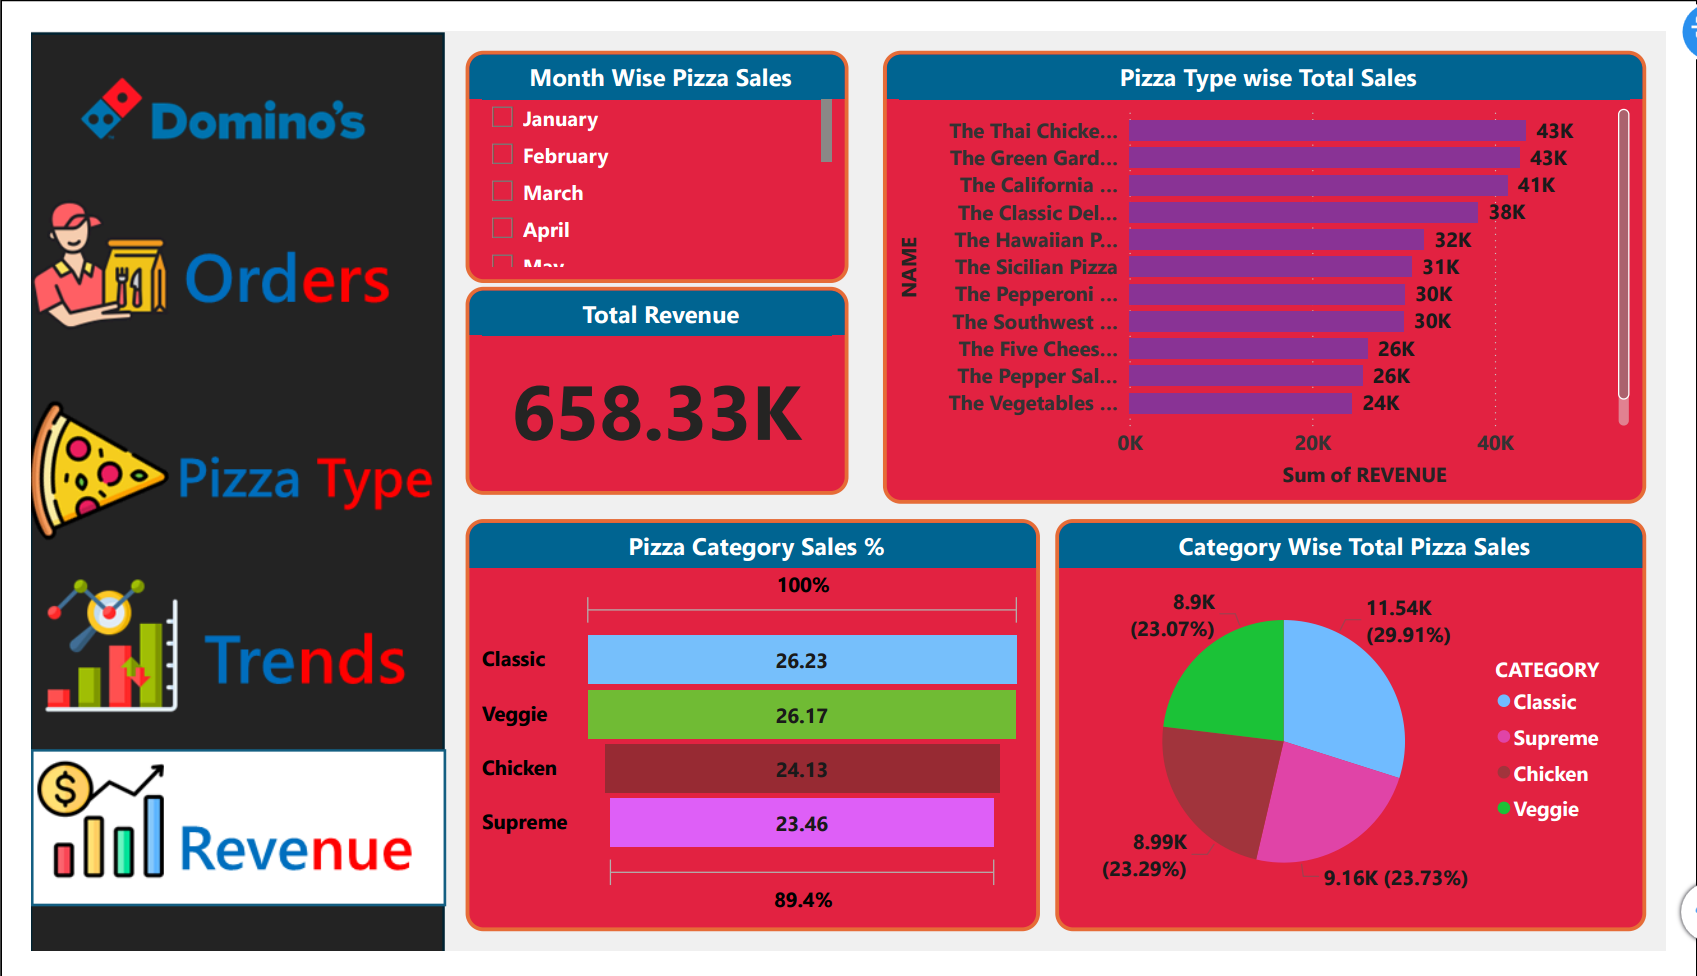

This screenshot's page, from the dashboard's own definition file:
{"tool":"powerbi","page":{"name":"Revenue","canvas":[1280,720],"ordinal":3},"visuals":[{"type":"funnel","title":"Pizza Category Sales %","fields":{"Category":["sales pizzatye_revenue.CATEGORY"],"Y":["Sum(sales pizzatye_revenue.REVENUE_PERCENTAGE)"]},"box":[340,381.7,450,323.3],"z":0},{"type":"card","title":"Total Revenue","fields":{"Values":["Sum(sales totalrevenue.TOTAL_REVENUE)"]},"box":[340,200,300,163.3],"z":1000},{"type":"pieChart","title":"Category Wise Total  Pizza Sales","fields":{"Category":["sales category_totalquanity.CATEGORY"],"Y":["Sum(sales category_totalquanity.TOTALQUANTITY)"]},"box":[801.7,381.7,463.3,323.3],"z":2000},{"type":"slicer","title":"Month Wise Pizza Sales","fields":{"Values":["sales orders.ORDER_DATE.Variation.Date Hierarchy.Month"]},"box":[340,15,300,181.7],"z":3000},{"type":"clusteredBarChart","title":"Pizza Type wise Total Sales","fields":{"Category":["sales top3pizzas_basedon_revenue.NAME"],"Y":["Sum(sales top3pizzas_basedon_revenue.REVENUE)"]},"box":[666.7,15,598.3,355],"z":4000},{"type":"actionButton","box":[23.3,281.7,330,111.7],"z":5000},{"type":"actionButton","box":[36.7,150,330,111.7],"z":6000},{"type":"actionButton","box":[26.7,140,330,111.7],"z":7000},{"type":"actionButton","box":[23.3,435,330,111.7],"z":8000}]}

Visuals, with their boxes in screenshot pixels (x1, y1, x2, y2), scaled from the page's 1280x720 canvas onto the 1697x976 screenshot:
"Pizza Category Sales %" funnel: [451,517,1047,956]
"Total Revenue" card: [451,271,848,492]
"Category Wise Total  Pizza Sales" pieChart: [1063,517,1677,956]
"Month Wise Pizza Sales" slicer: [451,20,848,267]
"Pizza Type wise Total Sales" clusteredBarChart: [884,20,1677,502]
actionButton: [31,382,468,533]
actionButton: [49,203,486,355]
actionButton: [35,190,473,341]
actionButton: [31,590,468,741]
